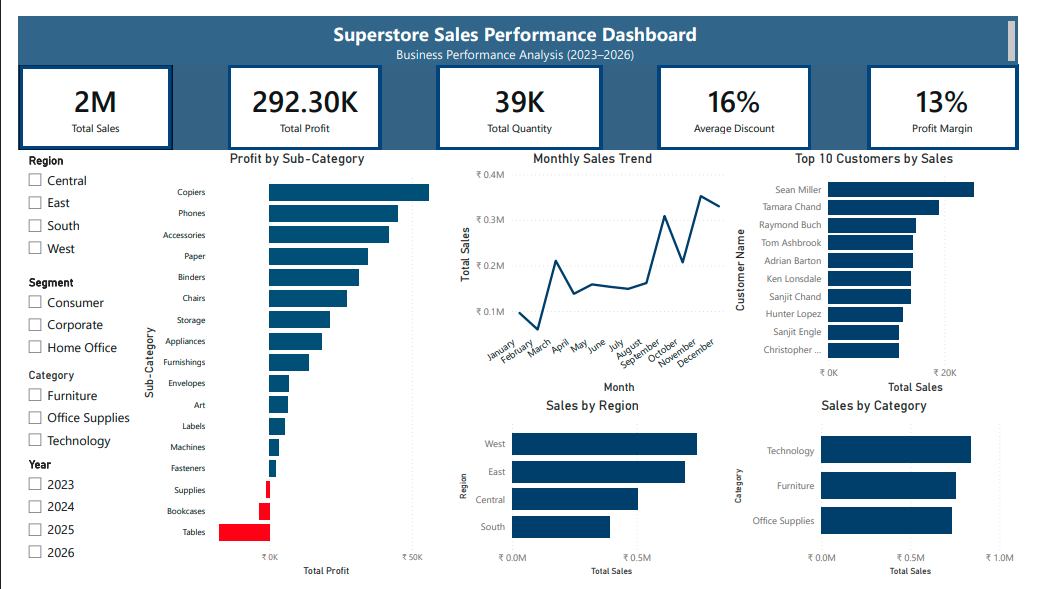

Layout of this report page (visuals, bound fields, positions):
{"tool":"powerbi","page":{"name":"Page 1","canvas":[1280,720],"ordinal":0},"visuals":[{"type":"cardVisual","fields":{"Data":["Orders.Total Sales"]},"box":[0,61.4,197.1,110],"z":0},{"type":"cardVisual","fields":{"Data":["Orders.Total Profit"]},"box":[267.5,61.4,197.1,110],"z":1000},{"type":"cardVisual","fields":{"Data":["Orders.Total Quantity"]},"box":[535,61.4,212.9,110],"z":2000},{"type":"cardVisual","fields":{"Data":["Orders.Average Discount"]},"box":[818.2,61.4,197.1,110],"z":3000},{"type":"cardVisual","fields":{"Data":["Orders.Profit Margin"]},"box":[1085.7,61.4,194.3,110],"z":4000},{"type":"clusteredBarChart","title":"Sales by Category","fields":{"Category":["Orders.Category"],"Y":["Orders.Total Sales"]},"box":[911.4,487.1,368.6,232.9],"z":5000},{"type":"clusteredBarChart","title":"Profit by Sub-Category","fields":{"Y":["Orders.Total Profit"],"Category":["Orders.Sub-Category"]},"box":[154.3,171.4,404.3,548.6],"z":6000},{"type":"lineChart","title":"Monthly Sales Trend","fields":{"Y":["Orders.Total Sales"],"Category":["Orders.Order Date.Variation.Date Hierarchy.Month"]},"box":[558.6,171.4,352.9,315.7],"z":7000},{"type":"clusteredBarChart","title":"Sales by Region","fields":{"Y":["Orders.Total Sales"],"Category":["Orders.Region"]},"box":[558.6,487.1,352.9,232.9],"z":8000},{"type":"slicer","fields":{"Values":["Orders.Region"]},"box":[0,171.4,154.3,155.7],"z":9000},{"type":"slicer","fields":{"Values":["Orders.Segment"]},"box":[0,327.1,154.3,118.6],"z":10000},{"type":"slicer","fields":{"Values":["Orders.Order Date.Variation.Date Hierarchy.Year"]},"box":[0,560,154.3,160],"z":11000},{"type":"slicer","fields":{"Values":["Orders.Category"]},"box":[0,445.7,154.3,114.3],"z":12000},{"type":"textbox","box":[0,0,1280,61.7],"z":13000},{"type":"clusteredBarChart","title":"Top 10 Customers by Sales","fields":{"Category":["Orders.Customer Name"],"Y":["Orders.Total Sales"]},"box":[911.4,171.4,368.6,315.7],"z":13001}]}

Visuals, with their boxes in screenshot pixels (x1, y1, x2, y2), scaled from the page's 1280x720 canvas onto the 1037x589 screenshot:
cardVisual - Orders.Total Sales: crop(0, 50, 160, 140)
cardVisual - Orders.Total Profit: crop(217, 50, 376, 140)
cardVisual - Orders.Total Quantity: crop(433, 50, 606, 140)
cardVisual - Orders.Average Discount: crop(663, 50, 823, 140)
cardVisual - Orders.Profit Margin: crop(880, 50, 1036, 140)
"Sales by Category" clusteredBarChart: crop(738, 398, 1036, 588)
"Profit by Sub-Category" clusteredBarChart: crop(125, 140, 453, 588)
"Monthly Sales Trend" lineChart: crop(453, 140, 738, 398)
"Sales by Region" clusteredBarChart: crop(453, 398, 738, 588)
slicer - Orders.Region: crop(0, 140, 125, 268)
slicer - Orders.Segment: crop(0, 268, 125, 365)
slicer - Orders.Order Date.Variation.Date Hierarchy.Year: crop(0, 458, 125, 588)
slicer - Orders.Category: crop(0, 365, 125, 458)
textbox: crop(0, 0, 1036, 50)
"Top 10 Customers by Sales" clusteredBarChart: crop(738, 140, 1036, 398)
